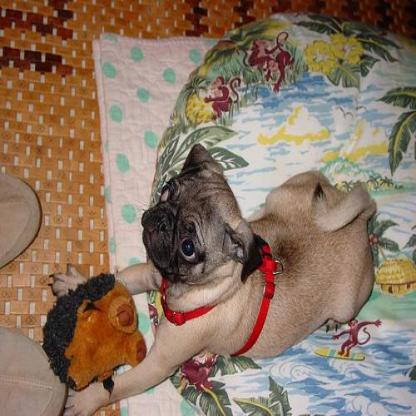pug: (46, 141, 378, 414)
